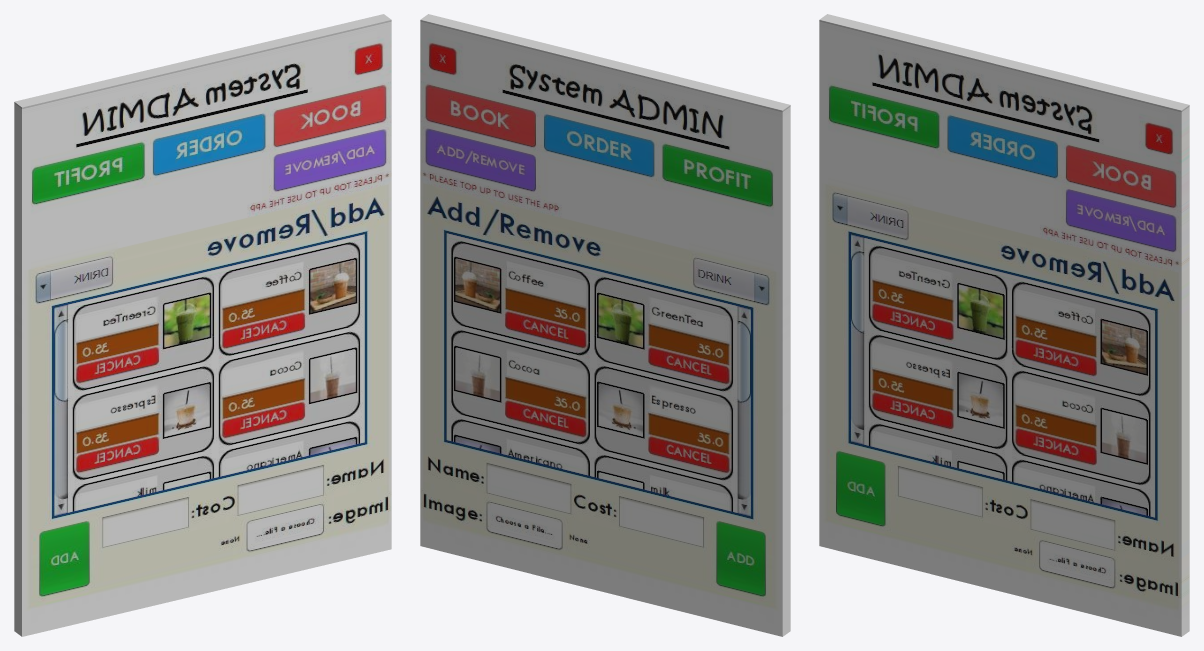
The model's file is image5.glb.
3 renders of one model, left to right at view 1: azimuth 30°, elevation 25°; view 2: azimuth 150°, elevation 25°; view 3: azimuth 330°, elevation 25°, orthographic.
Parts seen in each view (by area): view 1: 825256933_1630112262089639_1690268754794214822_n; view 2: 825256933_1630112262089639_1690268754794214822_n; view 3: 825256933_1630112262089639_1690268754794214822_n.
Part boxes in pixels (<box>): 825256933_1630112262089639_1690268754794214822_n: <box>14,14,391,636</box>; 825256933_1630112262089639_1690268754794214822_n: <box>420,14,790,636</box>; 825256933_1630112262089639_1690268754794214822_n: <box>819,14,1189,636</box>.
Bounding box in the file's own units: 2.24 × 3.09 × 0.1118.
Materials: 1 (1 with a texture image).
